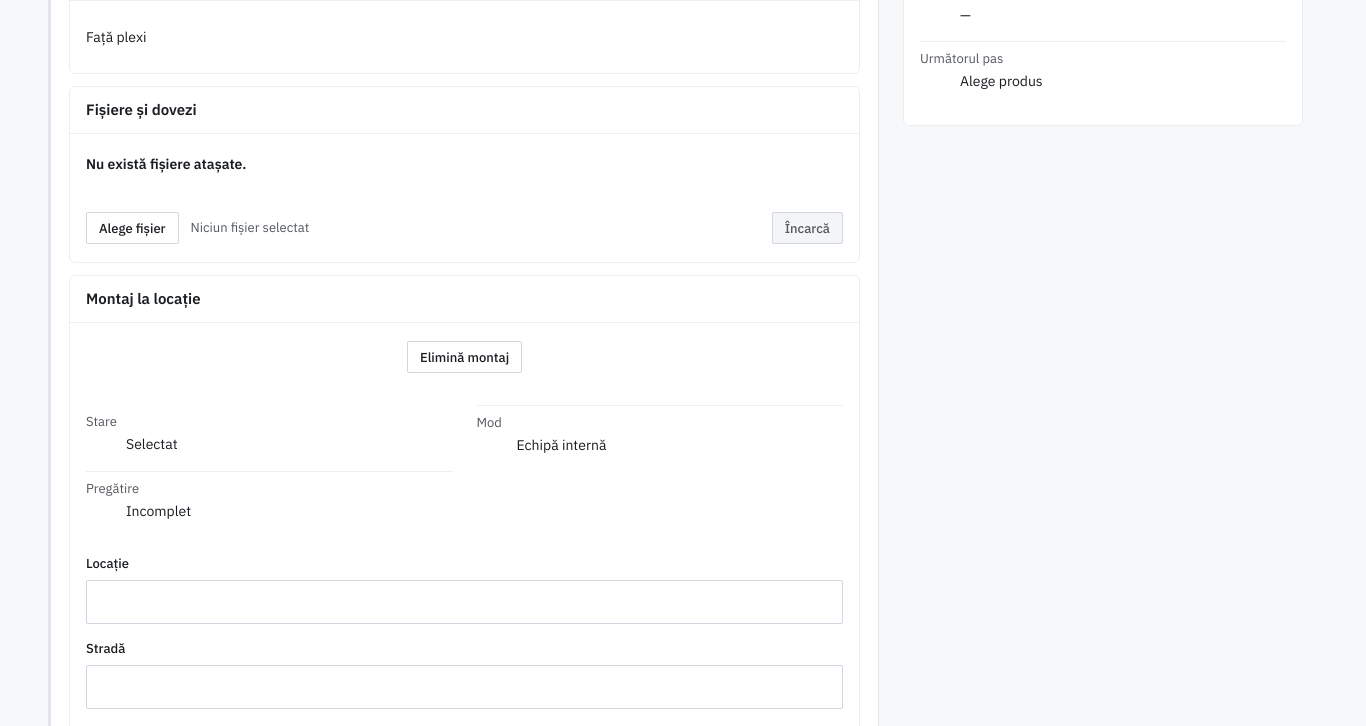
Test: RequestDetailPage › deselects installation without facts immediately
(page scrolled)
Click the button "Elimină montaj": click(464, 357) [86,335,843,379]
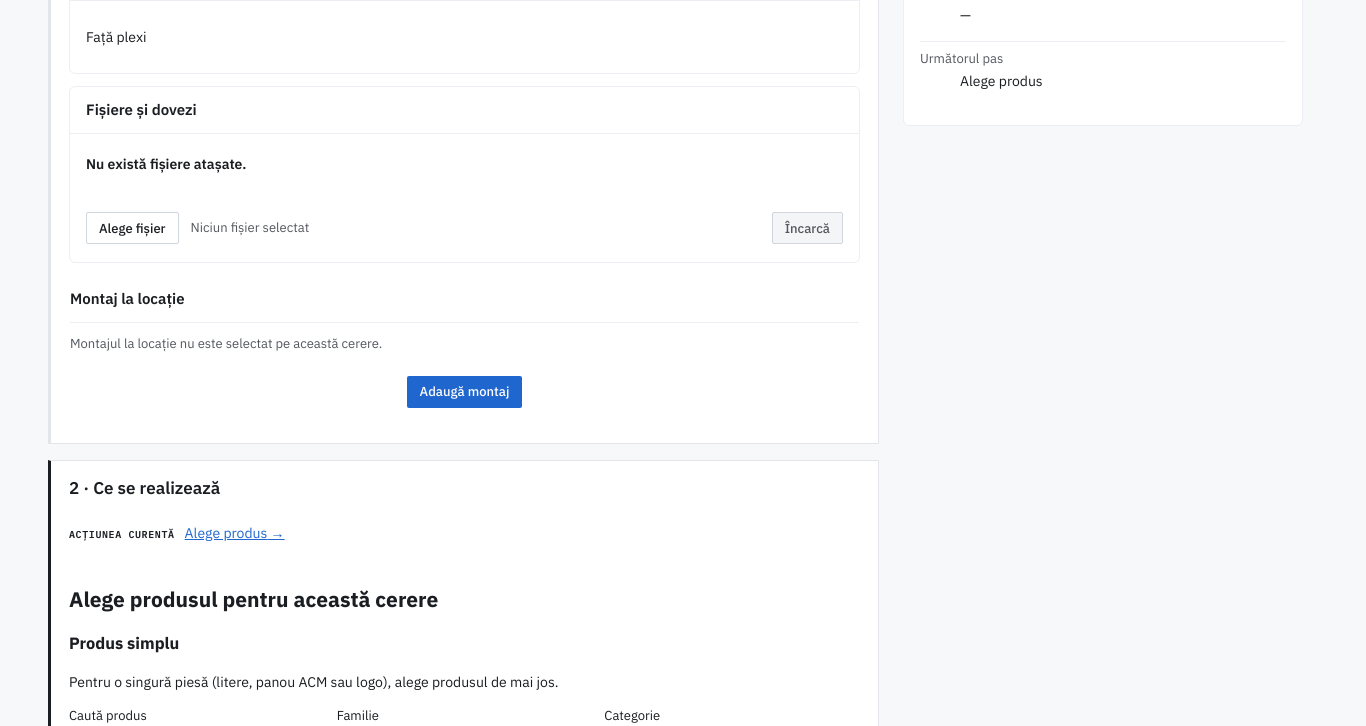
Expected: the text "Montajul la locație nu este selectat pe această cerere." is shown, [70,335,382,352]
